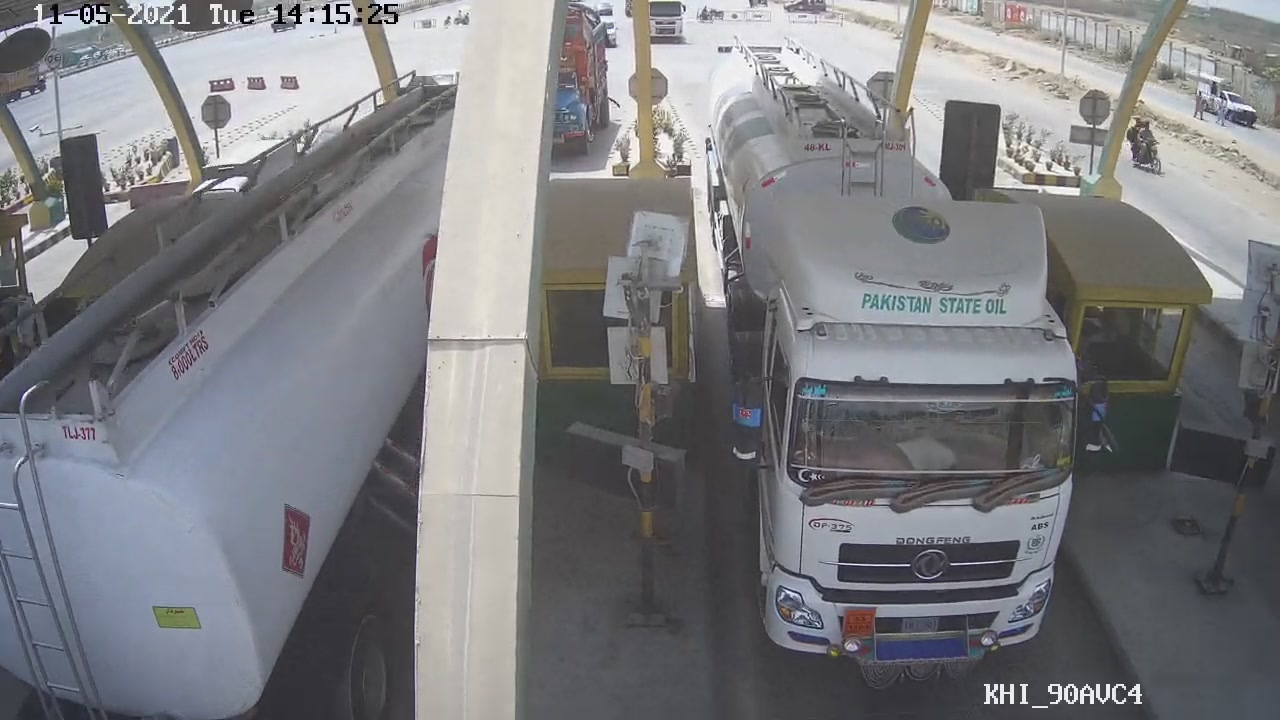F6: (703, 68, 1077, 687)
